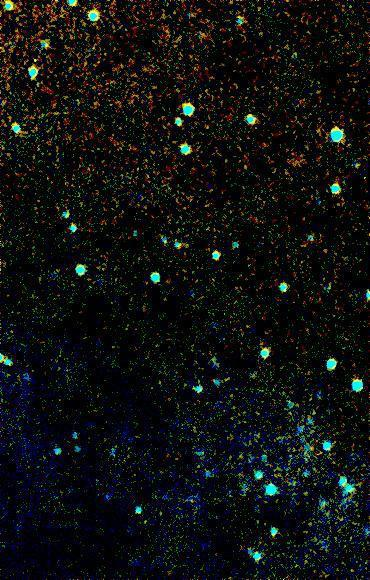star: (297, 432, 327, 462)
